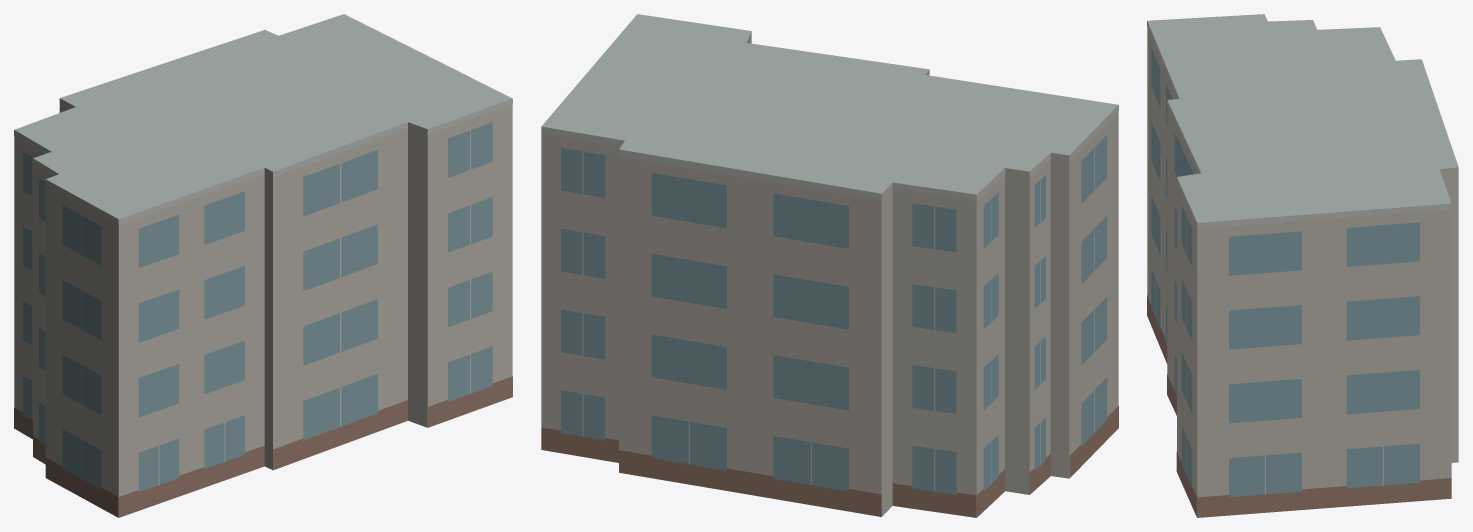
Rendered from survey-upis-32918753.glb.
3 renders of one model, left to right at view 1: azimuth 30°, elevation 25°; view 2: azimuth 150°, elevation 25°; view 3: azimuth 270°, elevation 25°, orthographic. The views are drawn at different scales.
Visible parts, largest first — view 1: survey-upis-32918753.tmp; view 2: survey-upis-32918753.tmp; view 3: survey-upis-32918753.tmp.
Part boxes in pixels (bbox=[...]): survey-upis-32918753.tmp: bbox=[14, 14, 512, 517]; survey-upis-32918753.tmp: bbox=[541, 14, 1118, 517]; survey-upis-32918753.tmp: bbox=[1147, 14, 1458, 517].
Size of the model in its own units: 18.53 by 12.2 by 11.68.
